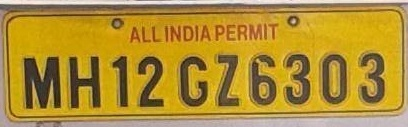character: (20, 54, 63, 109), (67, 53, 102, 109), (177, 54, 209, 107), (248, 53, 278, 107), (136, 53, 165, 108), (319, 52, 349, 105), (213, 52, 241, 108), (283, 51, 312, 105), (358, 50, 386, 105), (111, 50, 131, 110)
